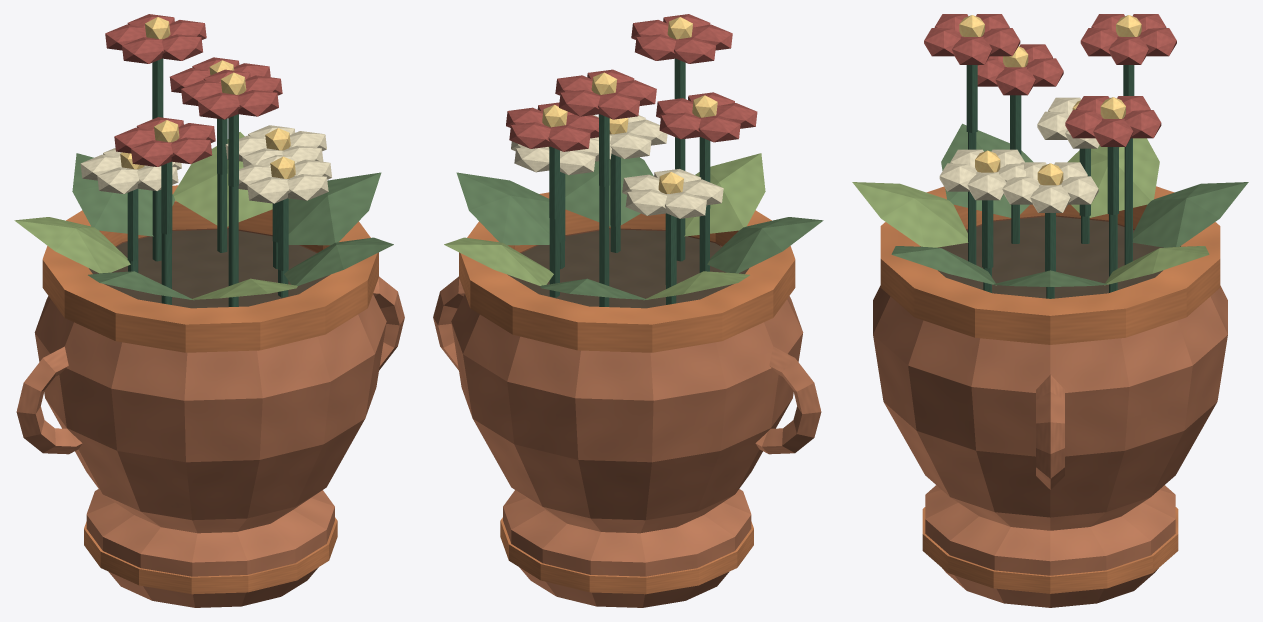
Rendered from planter_flower_urn.glb.
The picture shows the model from 3 angles, left to right: view 1: azimuth 30°, elevation 25°; view 2: azimuth 150°, elevation 25°; view 3: azimuth 270°, elevation 25°; orthographic projection. The views are drawn at different scales.
Visible parts, largest first — view 1: planter_flower_urn; view 2: planter_flower_urn; view 3: planter_flower_urn.
Part boxes in pixels (bbox=[...]): planter_flower_urn: bbox=[14, 14, 404, 607]; planter_flower_urn: bbox=[433, 14, 823, 607]; planter_flower_urn: bbox=[852, 14, 1248, 607].
Size of the model in its own units: 0.864 by 1.11 by 0.7409.
Materials: 1 (1 with a texture image).
